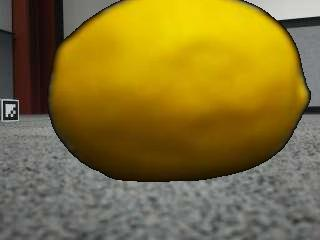lemon: (59, 3, 312, 191)
